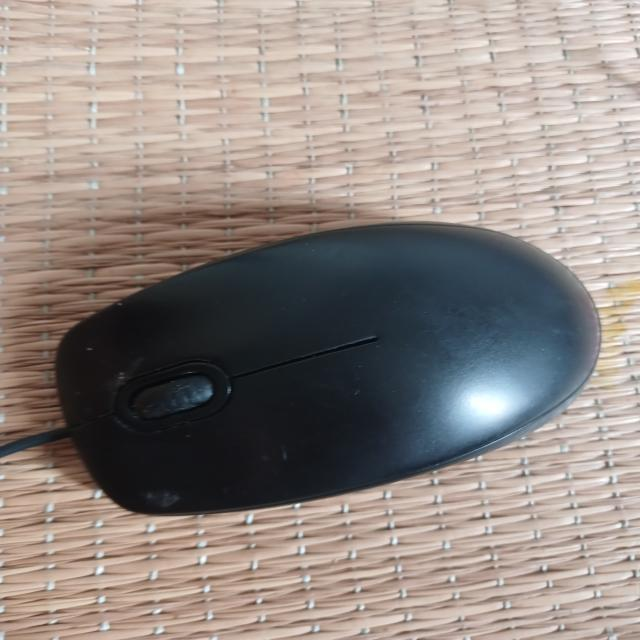mouse: (35, 209, 613, 524)
